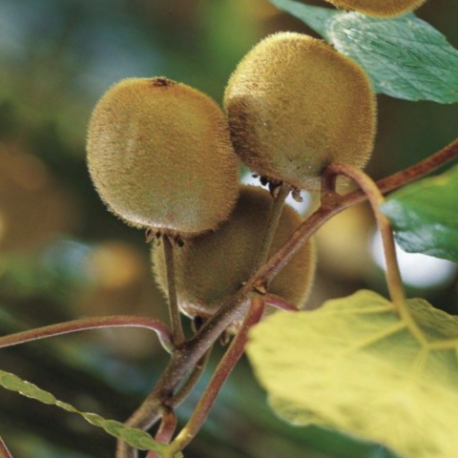kiwi: (169, 0, 419, 233), (115, 140, 344, 364), (43, 48, 277, 266)
